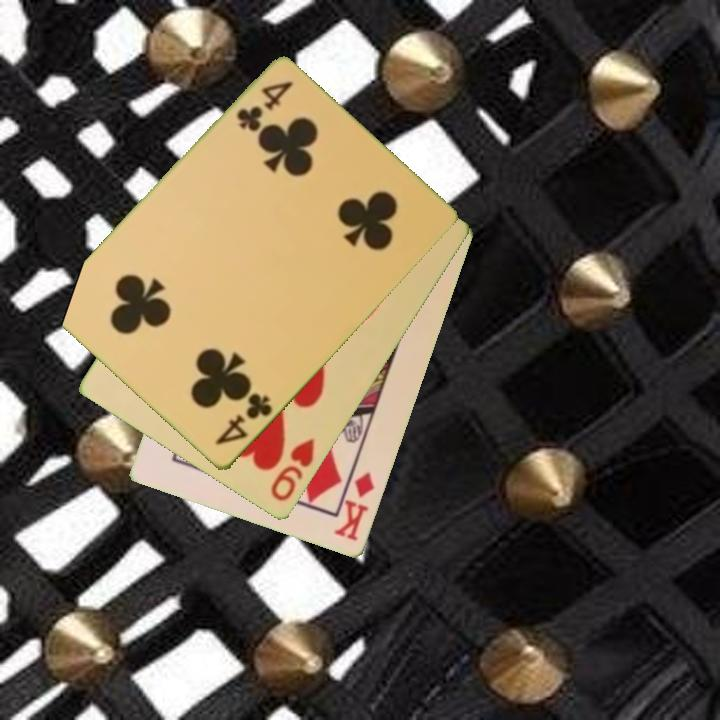4c: (211, 390, 276, 449), (233, 78, 297, 134)
9h: (267, 435, 318, 505)
Kd: (330, 469, 378, 545)
